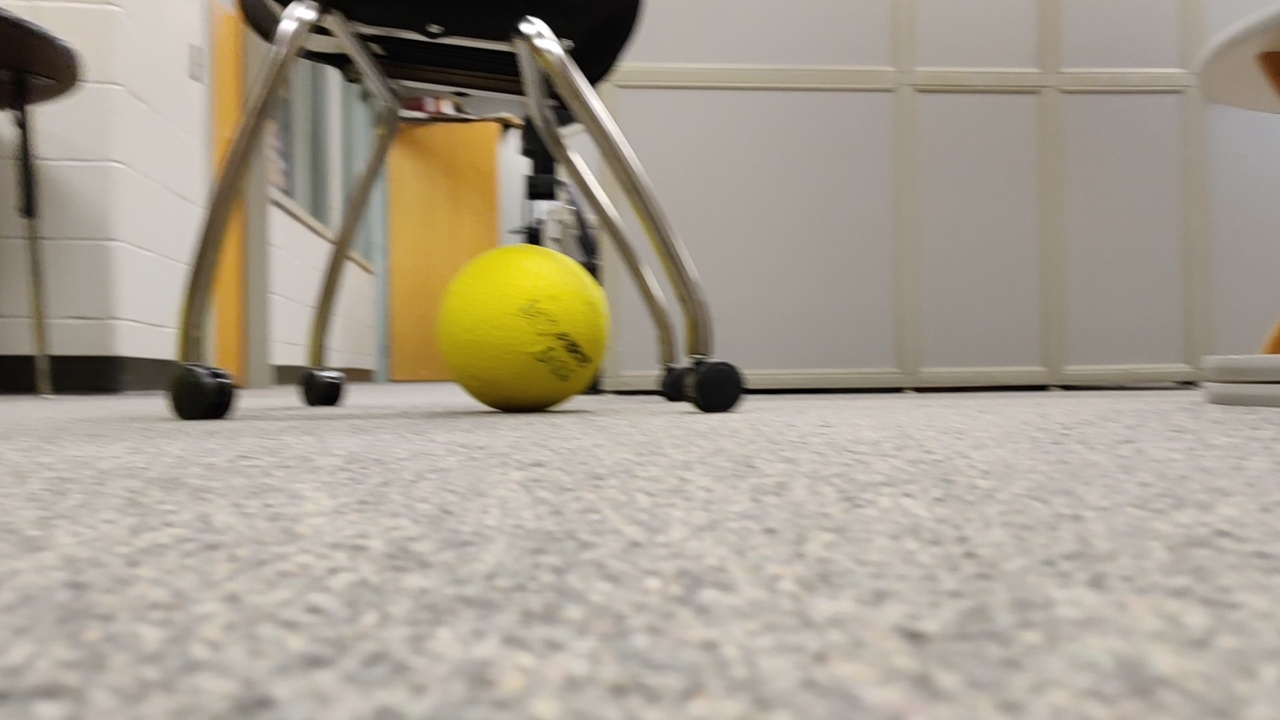Ball: (436, 239, 615, 410)
